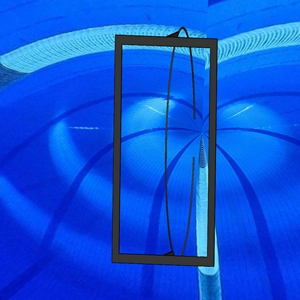circle: (110, 24, 219, 268)
